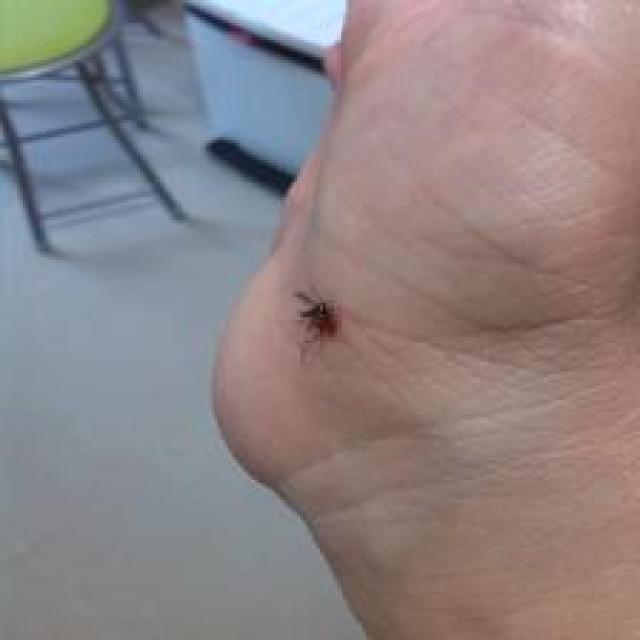Aedes albopictus: (293, 288, 338, 343)
